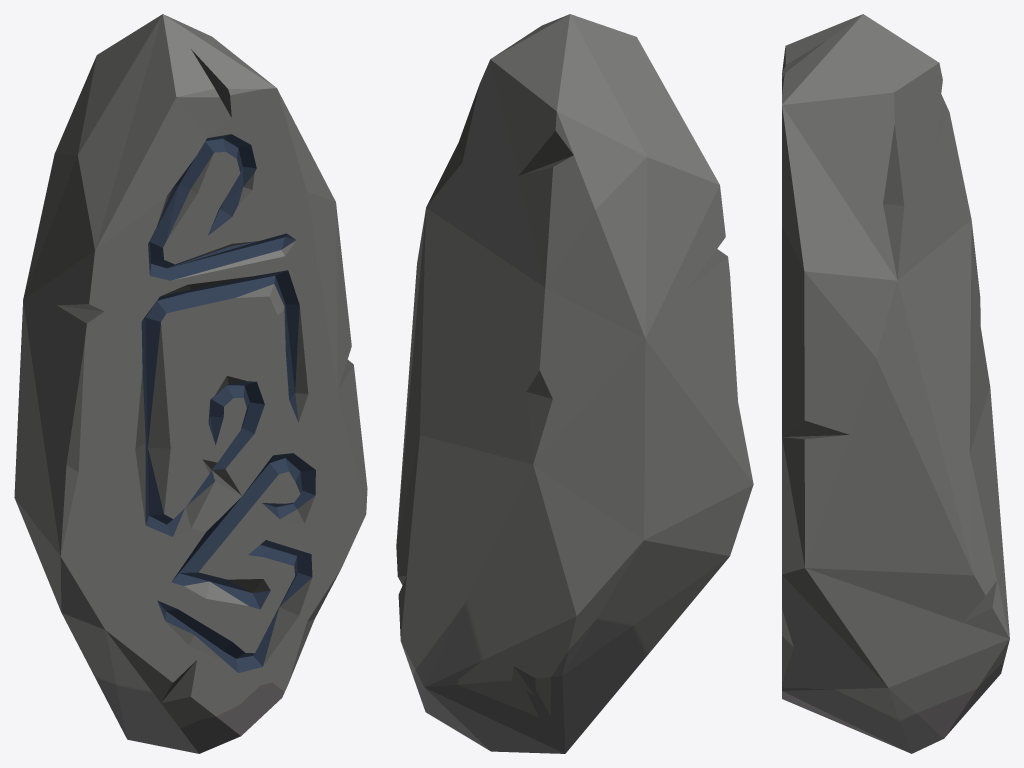
The model's file is SM_Prop_StoneRunes_03.fbx.
The picture shows the model from 3 angles, left to right: view 1: azimuth 30°, elevation 25°; view 2: azimuth 150°, elevation 25°; view 3: azimuth 270°, elevation 25°; orthographic projection. The views are drawn at different scales.
Parts seen in each view (by area): view 1: SM_Prop_StoneRunes_03; view 2: SM_Prop_StoneRunes_03; view 3: SM_Prop_StoneRunes_03.
Part boxes in pixels (<box>): SM_Prop_StoneRunes_03: <box>14,14,367,753</box>; SM_Prop_StoneRunes_03: <box>396,14,753,753</box>; SM_Prop_StoneRunes_03: <box>782,14,1009,753</box>.
Size of the model in its own units: 156 by 349 by 101.
1 material, 1 textured.
